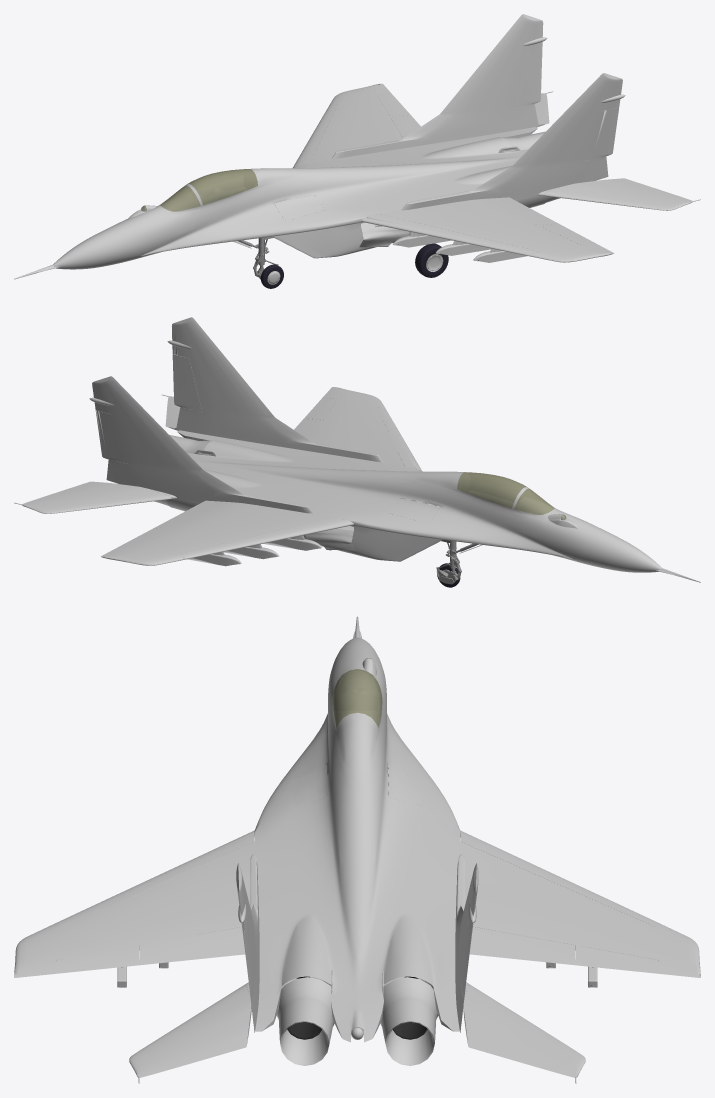
The picture shows the model from 3 angles, top to bottom: view 1: azimuth 30°, elevation 25°; view 2: azimuth 150°, elevation 25°; view 3: azimuth 270°, elevation 25°; orthographic projection. The views are drawn at different scales.
Parts seen in each view (by area): view 1: AM84_016_13, AM84_016_14, AM84_016_06, AM84_016_07; view 2: AM84_016_13, AM84_016_14, AM84_016_07; view 3: AM84_016_13, AM84_016_14, AM84_016_20.
Boxes of the visible parts, left/top/right/bottom form: AM84_016_13: left=14, top=14, right=700, bottom=279; AM84_016_14: left=160, top=169, right=257, bottom=211; AM84_016_06: left=415, top=243, right=448, bottom=277; AM84_016_07: left=238, top=237, right=278, bottom=279; AM84_016_13: left=14, top=317, right=700, bottom=582; AM84_016_14: left=457, top=472, right=554, bottom=514; AM84_016_07: left=436, top=540, right=478, bottom=584; AM84_016_13: left=14, top=616, right=700, bottom=1083; AM84_016_14: left=332, top=669, right=382, bottom=727; AM84_016_20: left=287, top=976, right=427, bottom=1039.
Size of the model in its own units: 1740 by 463 by 1142.
